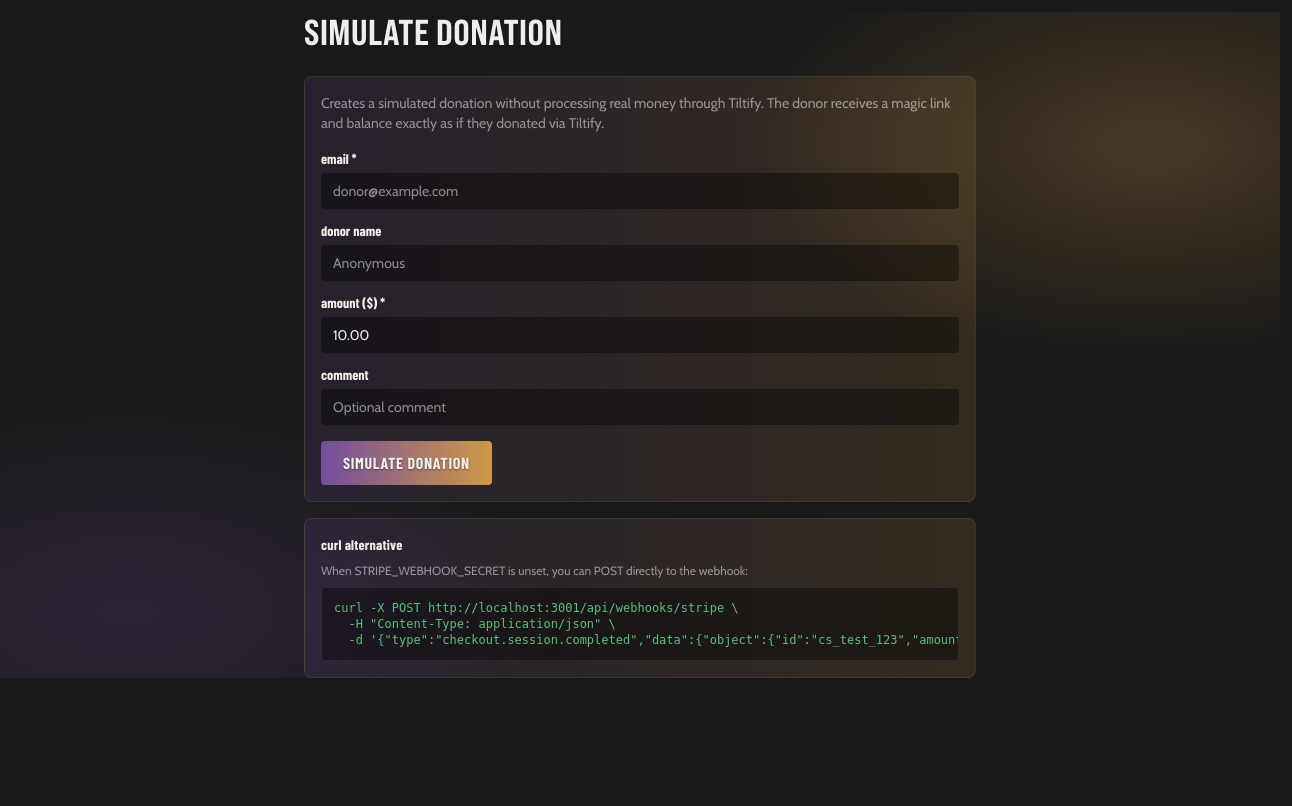
AdminSimulate › creates a simulated donation and shows the result
This screenshot has width=1292, height=806.
Type "alice@example.com" into the field with placeholder "donor@example.com".
click(640, 191); type("alice@example.com")  # box [321,173,959,209]
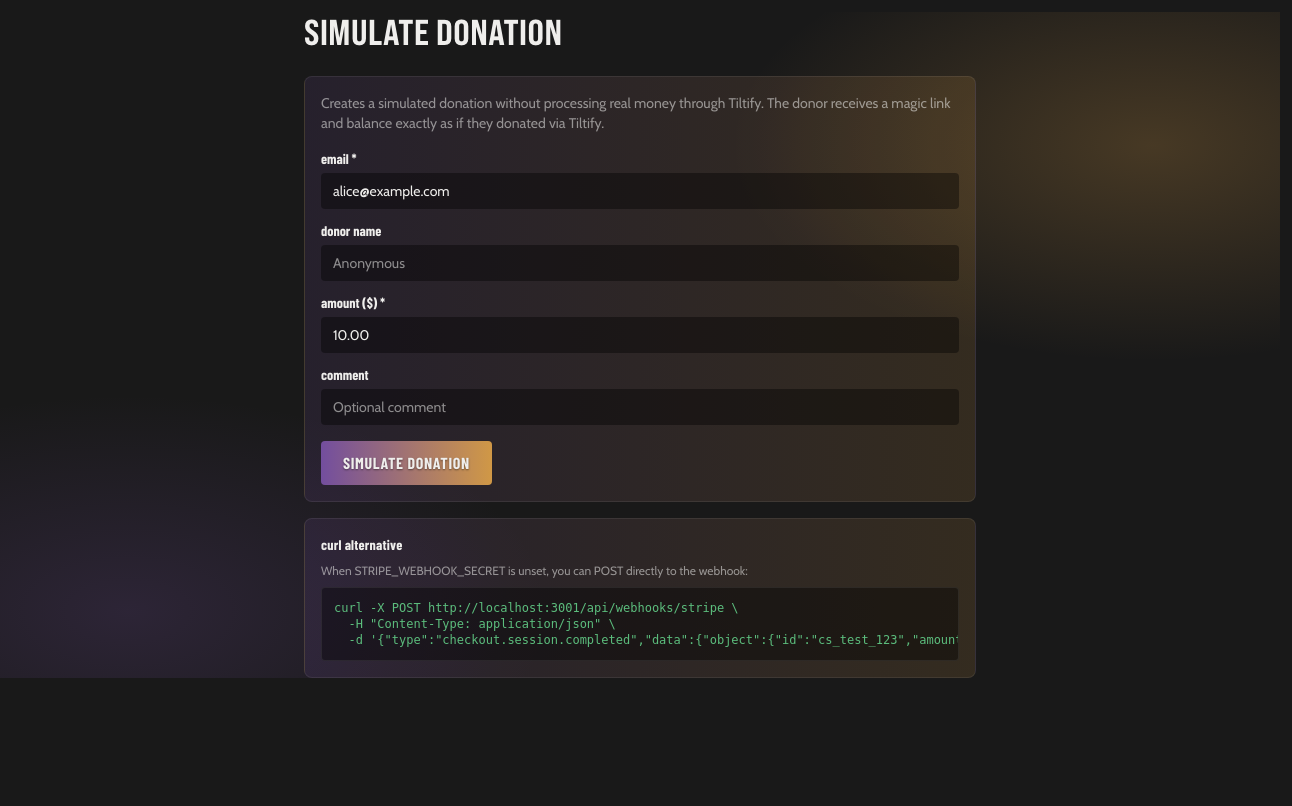
Click the button "simulate donation".
click(406, 463)  # box [321,441,492,485]
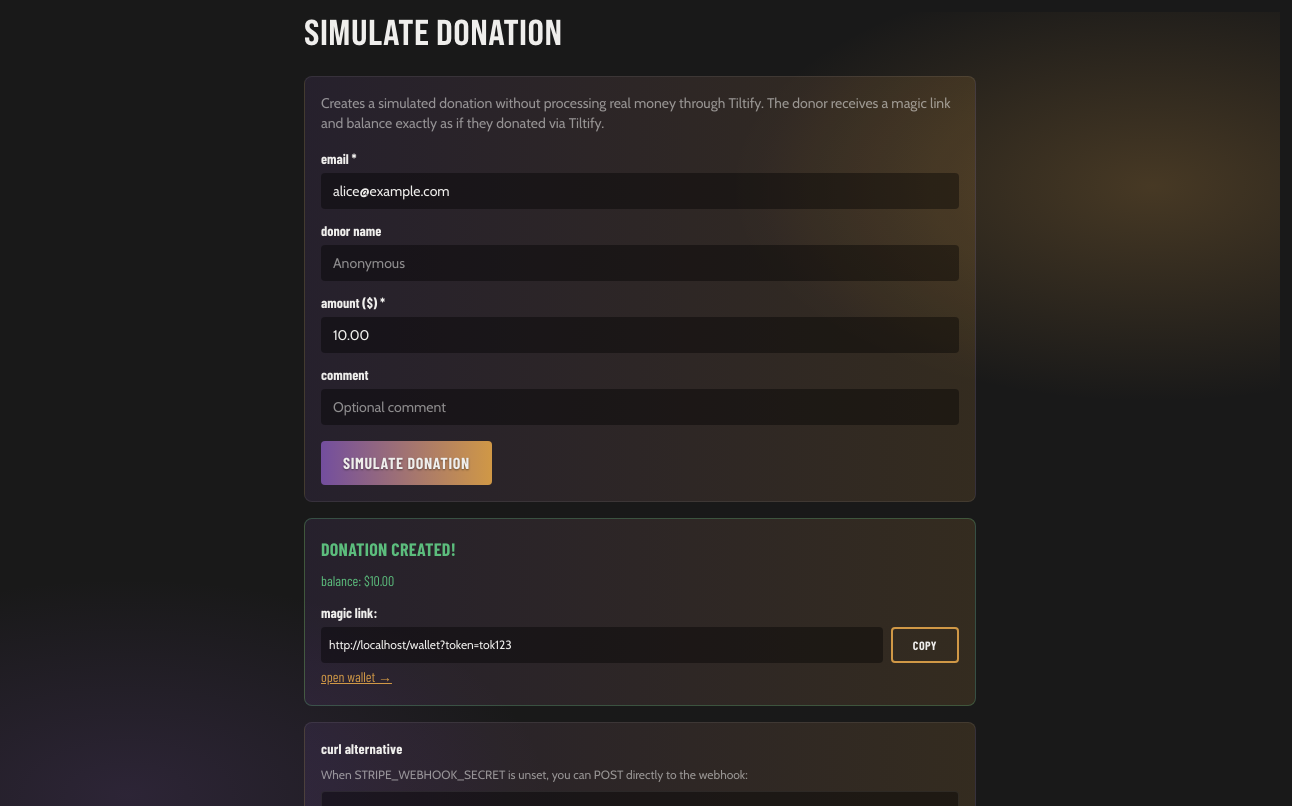
Now the heading "donation created!" is shown, box [321,538,456,560]
Now the field showing "token=tok123" below "magic link:" is shown, box [321,627,883,663]
